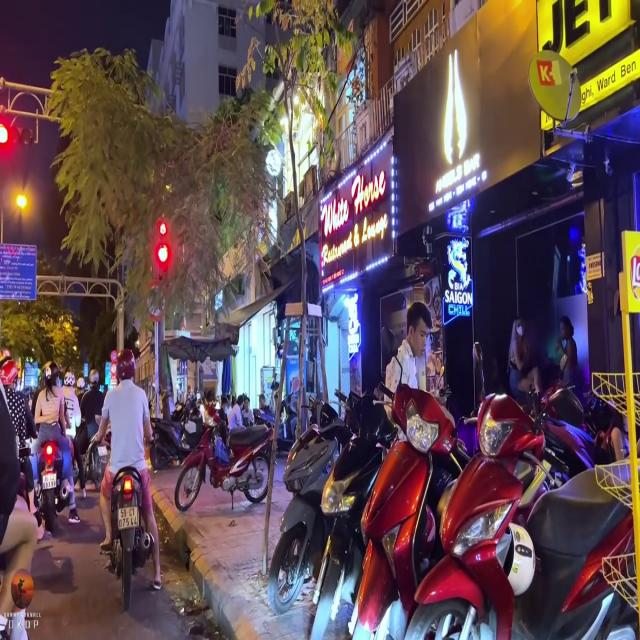bien_trang: (119, 506, 138, 529), (42, 470, 59, 490)
